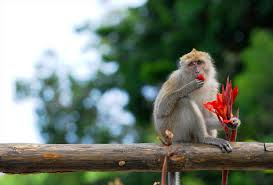monkey: (46, 28, 254, 151)
